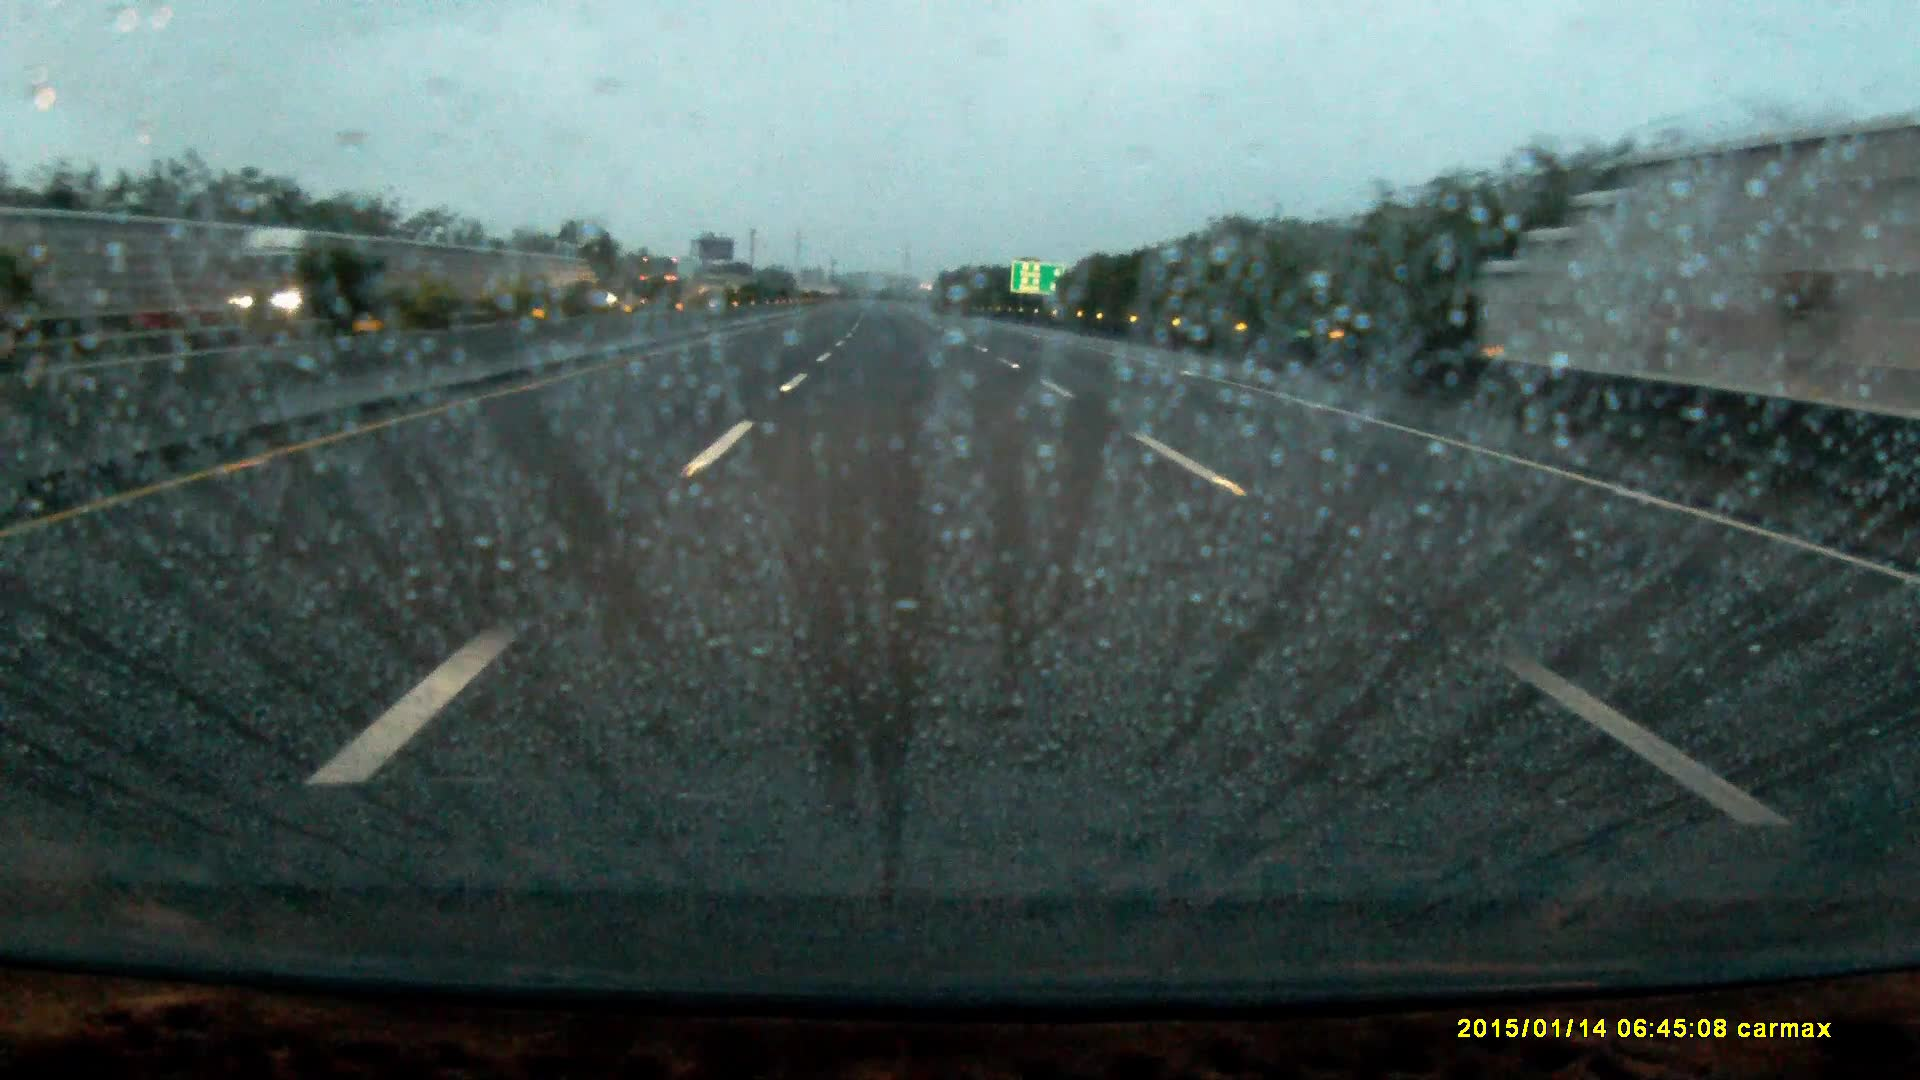vehicle: (227, 227, 369, 343), (636, 256, 698, 315)
